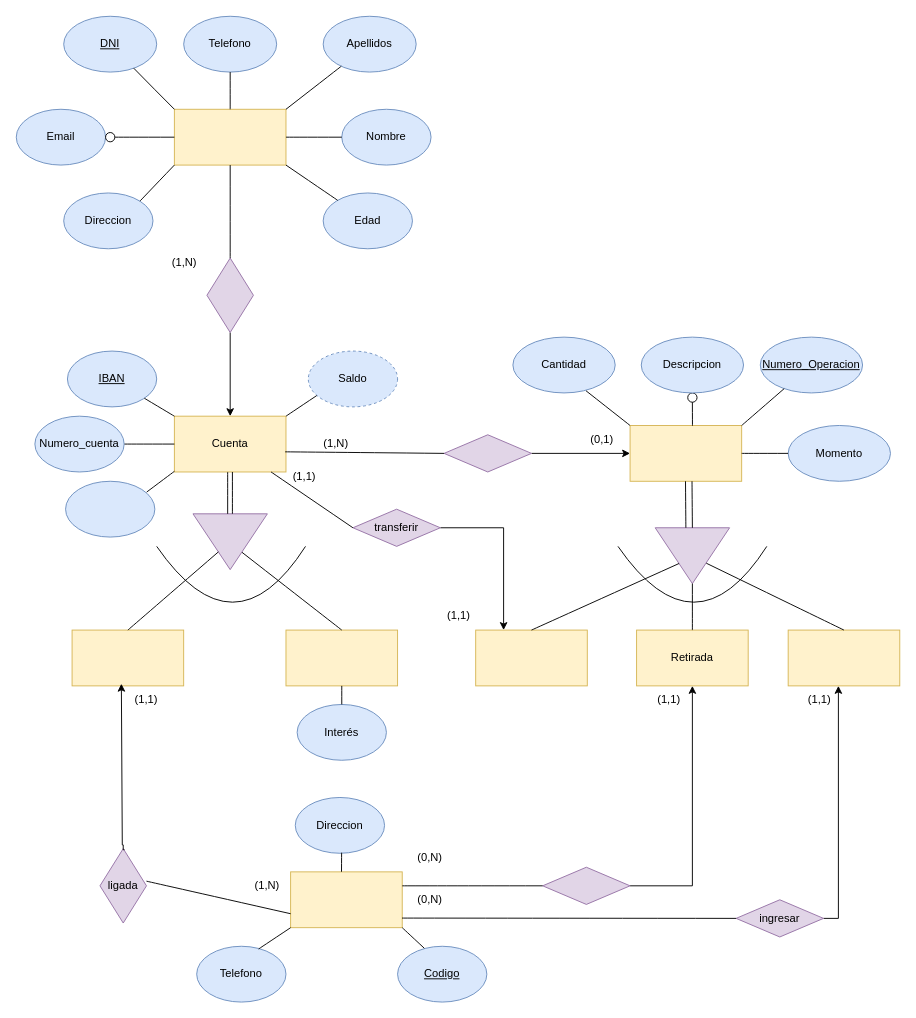
This 916x1018 diagram has some shape labels left out. The shapes that lost their labels are listed below. From the top down, each one's centre as x and y in pixels, then its label:
At [229,136]: "Cliente".
At [229,294]: "posee".
At [487,453]: "se realizan".
At [685,453]: "Operacion".
At [110,508]: "Fecha_Creacion".
At [127,657]: "Corriente".
At [341,657]: "Ahorros".
At [531,657]: "Tranferencia".
At [843,657]: "Ingreso".
At [346,899]: "Oficina".
At [586,885]: "retirar".
